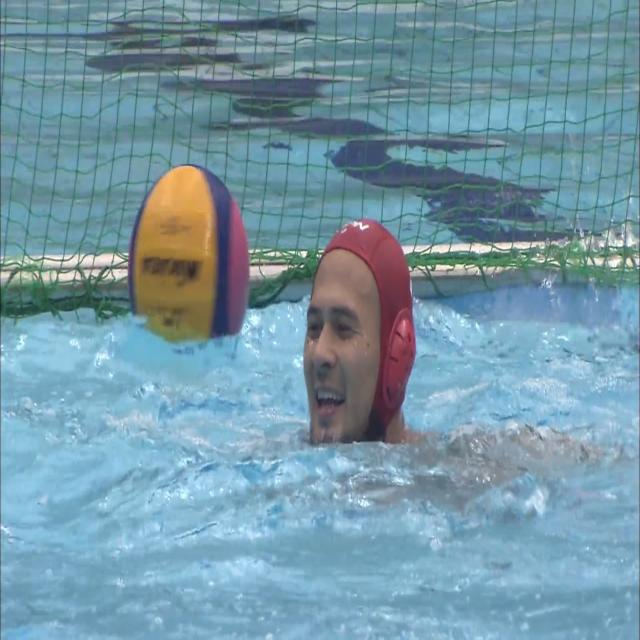ball: (129, 161, 250, 346)
